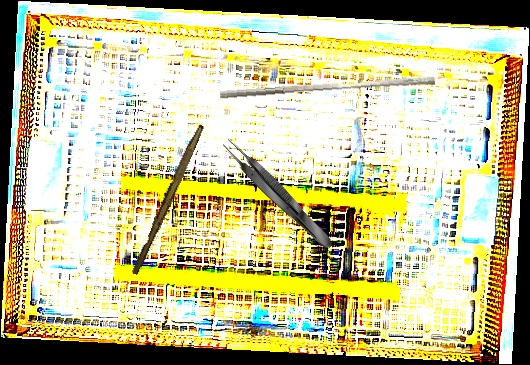Pusher: (219, 68, 436, 108)
Scalpel Handle: (130, 122, 205, 277)
Tissue Forceps: (218, 134, 338, 255)
